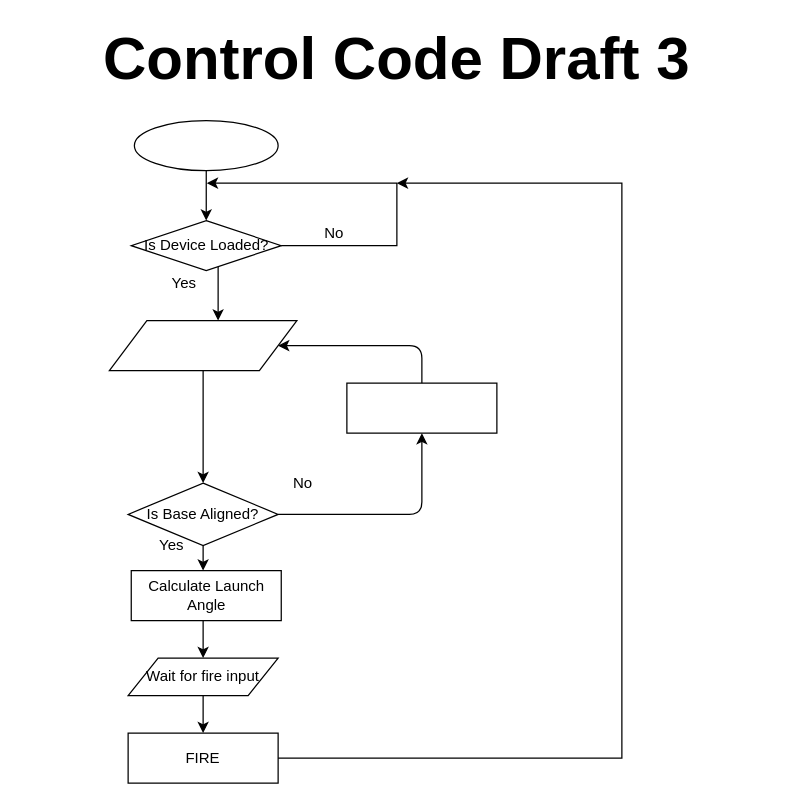
Image size: 793x805. Some labels were removed from this diagram. Here are the shapes that lost their labels. From the top down, the centre of each, then its label:
At (x=205, y=145): "Start Device".
At (x=202, y=345): "Request Vision Data".
At (x=421, y=407): "Adjust Base".
